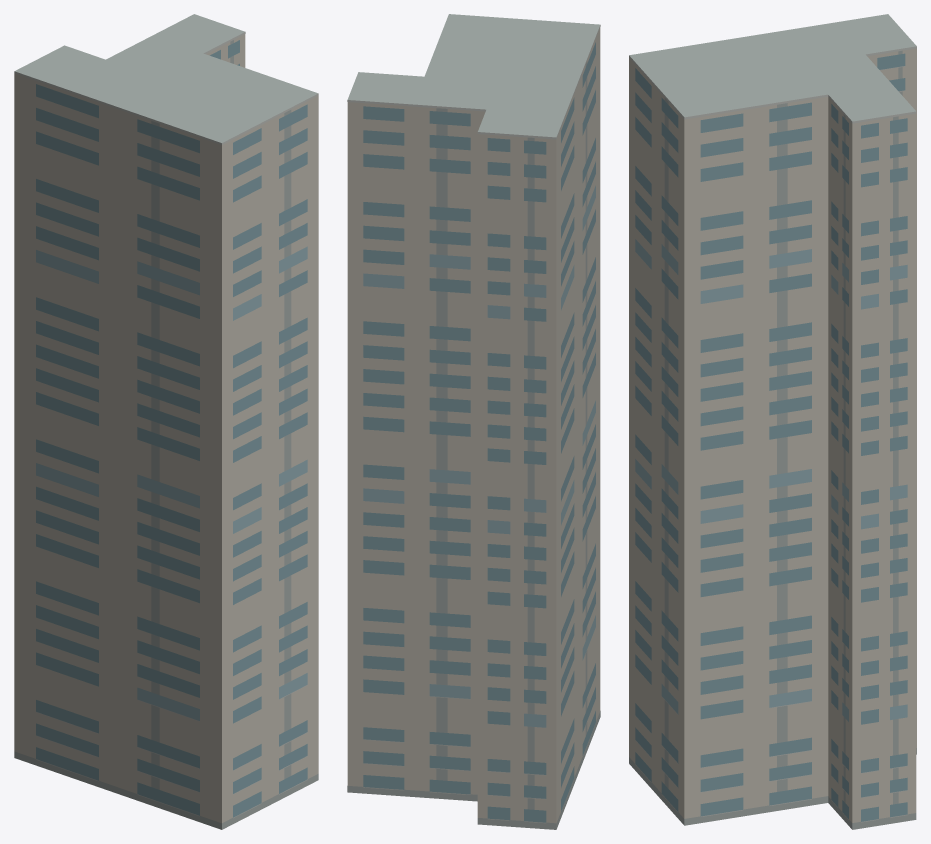
The model's file is residential-2e22a04a-56fe-44e4-8ffa-8628b69e0ea7.glb.
3 views of the same model, side by side, from view 1: azimuth 30°, elevation 25°; view 2: azimuth 150°, elevation 25°; view 3: azimuth 270°, elevation 25° (orthographic). The views are drawn at different scales.
Parts seen in each view (by area): view 1: residential-2e22a04a-56fe-44e4-8ffa-8628b69e0ea7.tmp; view 2: residential-2e22a04a-56fe-44e4-8ffa-8628b69e0ea7.tmp; view 3: residential-2e22a04a-56fe-44e4-8ffa-8628b69e0ea7.tmp.
Part boxes in pixels (x1,y1,x2,y2): residential-2e22a04a-56fe-44e4-8ffa-8628b69e0ea7.tmp: (14,14,318,829); residential-2e22a04a-56fe-44e4-8ffa-8628b69e0ea7.tmp: (347,14,600,829); residential-2e22a04a-56fe-44e4-8ffa-8628b69e0ea7.tmp: (629,14,916,829).
Size of the model in its own units: 26.72 by 82 by 30.21.
